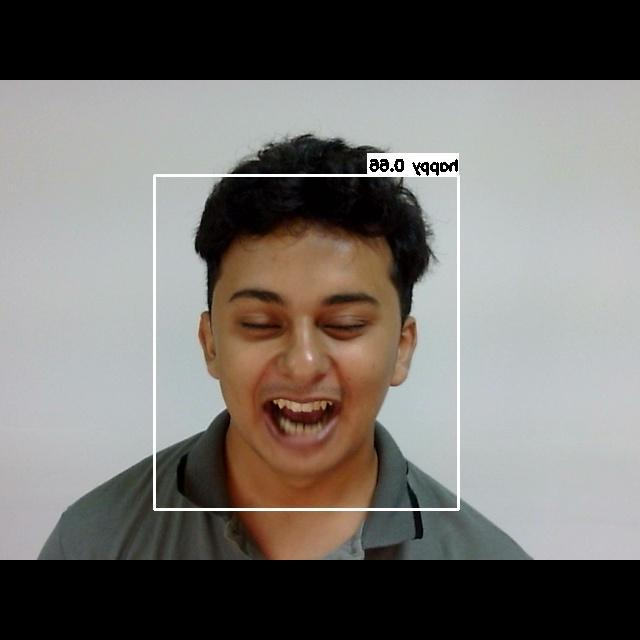Surprised: (200, 237, 405, 480)
